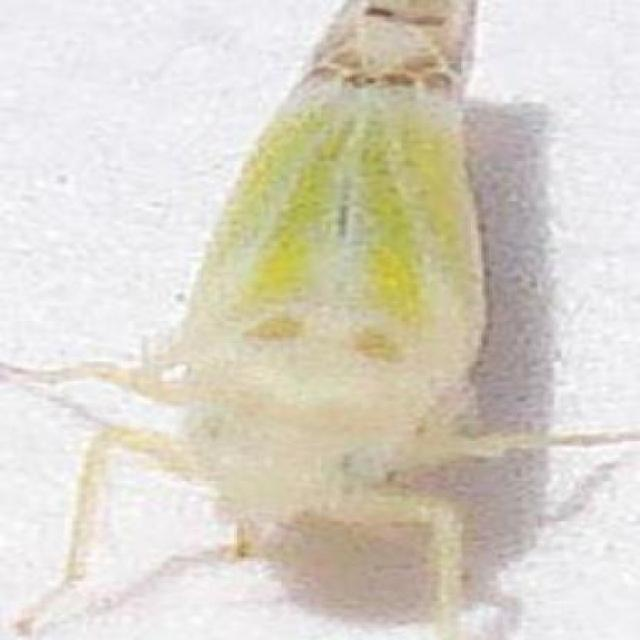green-leafhopper: (82, 0, 553, 589)
